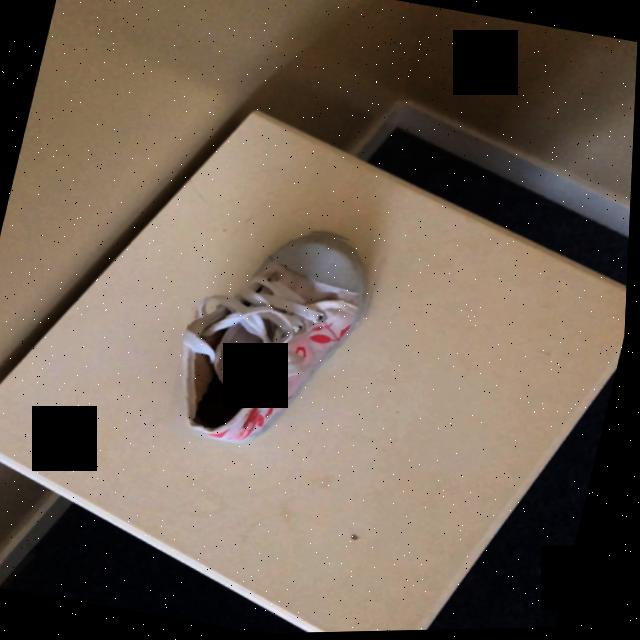shoe: (185, 236, 372, 447)
